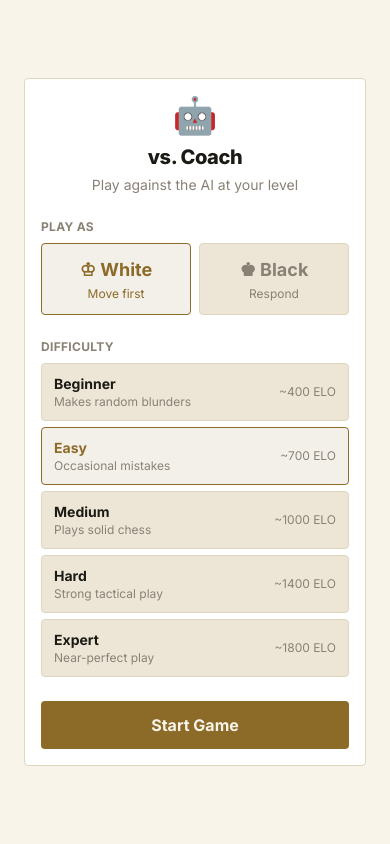
VsCoachPage › defaults to Focus mode, with the sidebar showing status/moves but no analysis content
Click the button "Start Game". click: (195, 725)
box: [41,701,349,749]
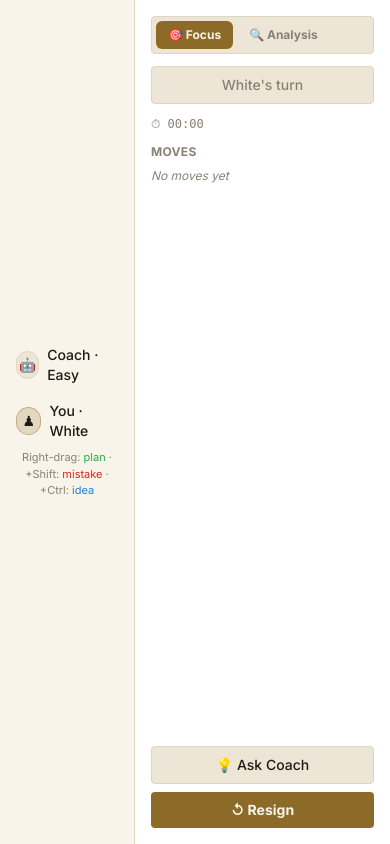
Expected: the text "No moves yet" is shown, [151,168,229,183]
